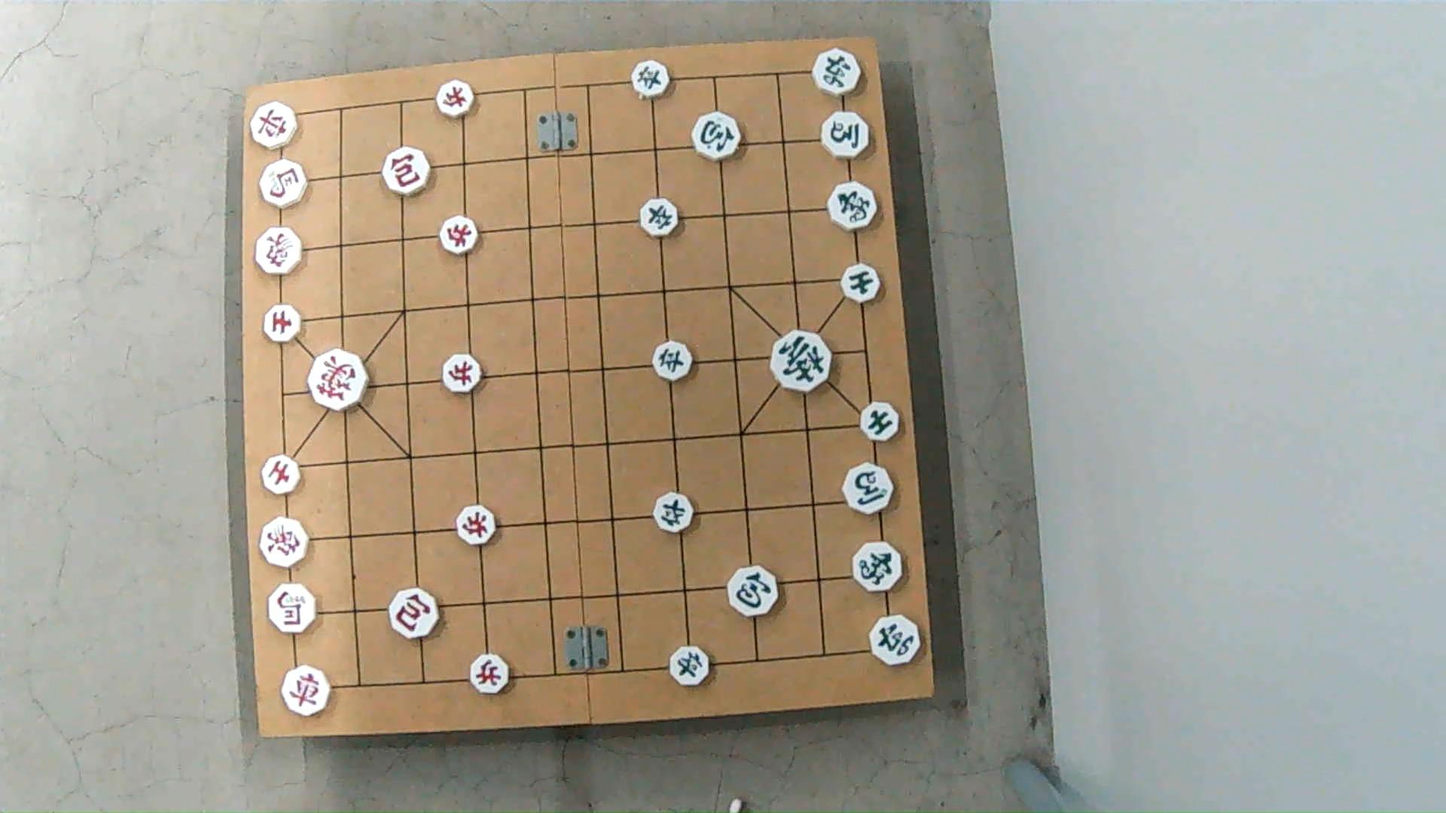cha_green: (868, 615, 923, 663), (811, 49, 865, 96)
cha_red: (281, 668, 332, 713), (248, 105, 297, 148)
jol_green: (669, 650, 715, 687), (650, 495, 694, 531), (639, 199, 682, 235), (651, 345, 694, 381), (631, 64, 672, 99)
jol_red: (453, 504, 498, 547), (468, 656, 512, 693), (442, 358, 484, 392), (441, 219, 482, 253), (437, 84, 478, 117)
ma_green: (840, 465, 897, 514), (819, 114, 871, 158)
ma_red: (265, 584, 316, 631), (258, 163, 307, 206)
po_green: (731, 570, 783, 615), (691, 116, 742, 160)
po_red: (389, 593, 441, 639), (381, 151, 432, 194)
sa_green: (837, 265, 883, 301), (860, 403, 902, 440)
sa_red: (261, 456, 304, 492), (260, 306, 300, 342)
sang_green: (825, 178, 879, 229), (851, 545, 903, 592)
sang_red: (252, 228, 306, 276), (258, 519, 310, 565)
wang_green: (769, 333, 831, 391)
wang_red: (306, 355, 371, 408)
